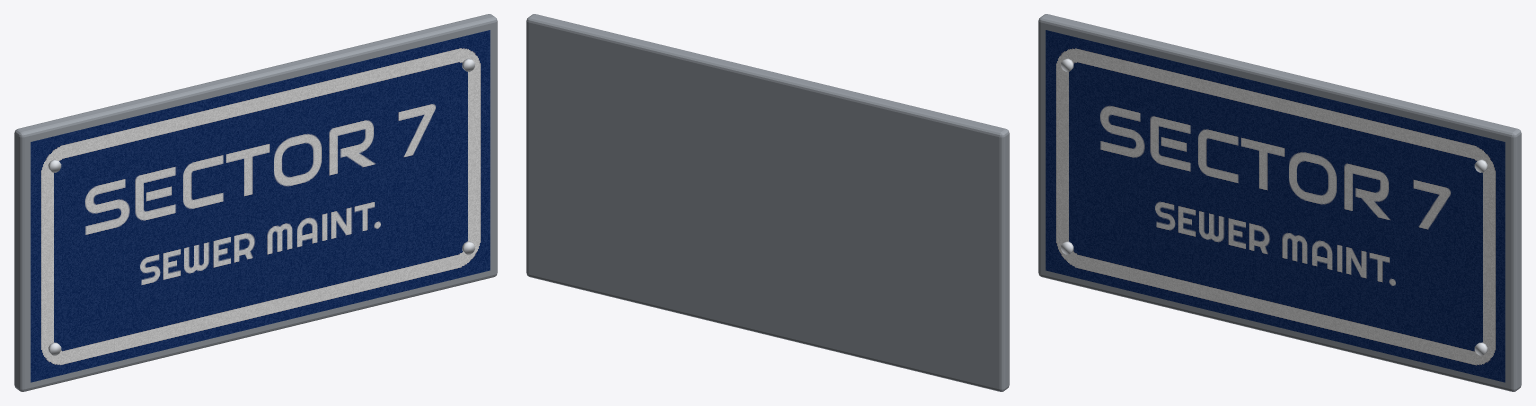
Rendered from Wall_Sign_Sector.fbx.
3 views of the same model, side by side, from view 1: azimuth 30°, elevation 25°; view 2: azimuth 150°, elevation 25°; view 3: azimuth 330°, elevation 25° (orthographic).
Visible parts, largest first — view 1: Wall_Sign_Sector; view 2: Wall_Sign_Sector; view 3: Wall_Sign_Sector.
Boxes of the visible parts, <box> form: Wall_Sign_Sector: <box>14,14,497,391</box>; Wall_Sign_Sector: <box>526,14,1009,391</box>; Wall_Sign_Sector: <box>1038,14,1521,391</box>.
Size of the model in its own units: 1.04 by 0.54 by 0.041.
3 materials, 1 textured.
